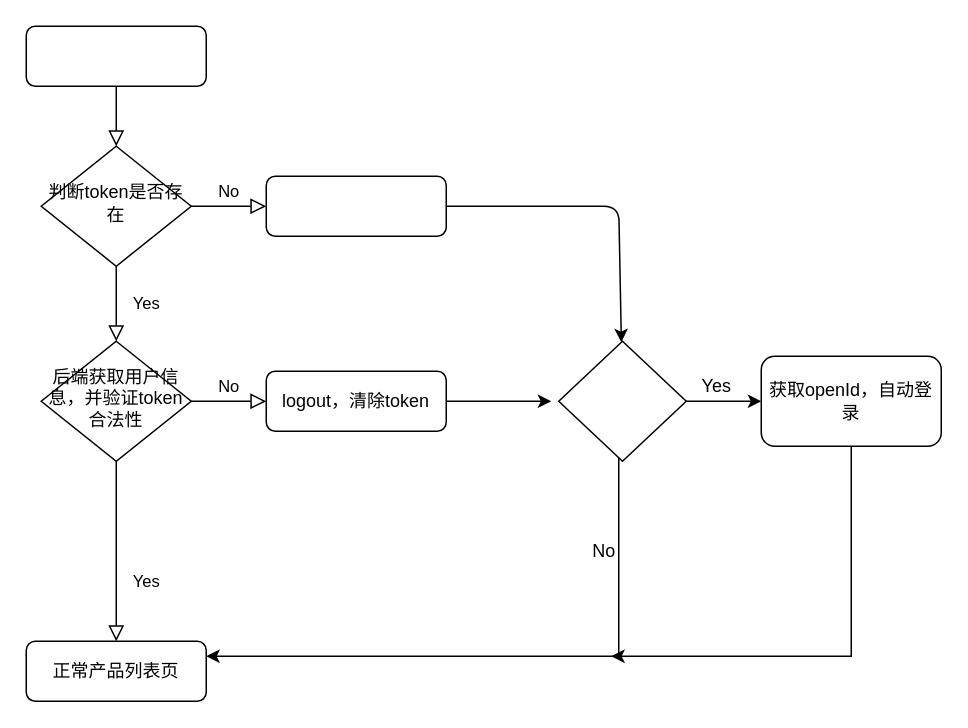
The diagram is 968 pixels wide and 728 high, and some of its shapes have lost their labels. The shapes that lost their labels are listed below. From the top down, each one's centre as x and y in pixels, then its label:
At [115,55]: "进入产品列表页".
At [355,205]: "Plug in lamp".
At [621,400]: "是否在微信浏览器中".
